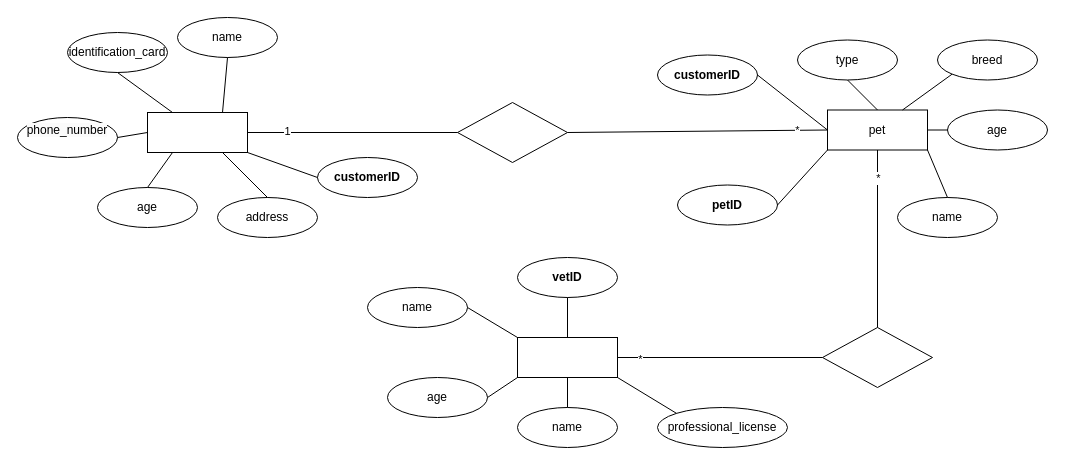
Some shapes in this 1065 by 465 pixel diagram are drawn without their labels. Each missing label, with the centre of its shape:
"attends" belongs at point 877,357.
"customer" belongs at point 197,132.
"have" belongs at point 512,132.
"vet" belongs at point 567,357.
